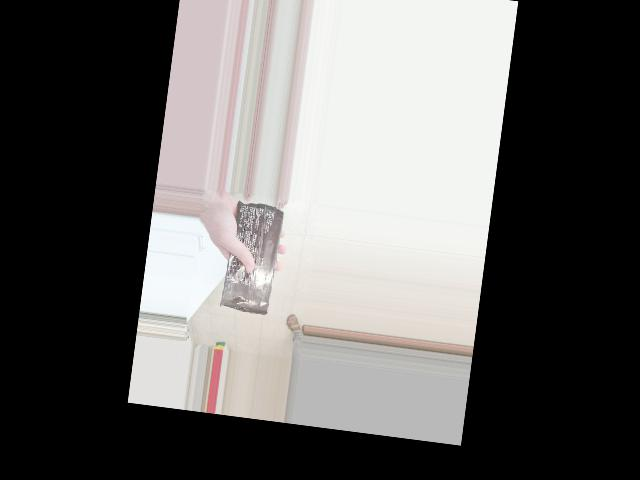chocolate: (219, 200, 288, 318)
